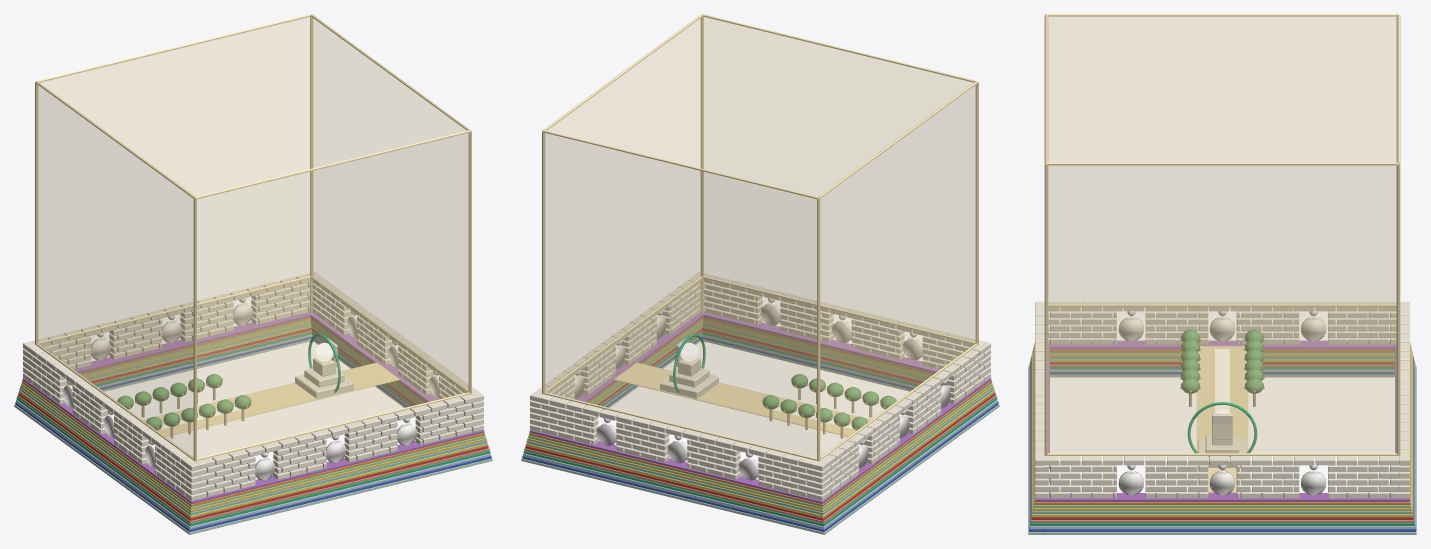
The model's file is new-jerusalem.glb.
3 renders of one model, left to right at view 1: azimuth 30°, elevation 25°; view 2: azimuth 150°, elevation 25°; view 3: azimuth 270°, elevation 25°, orthographic. The views are drawn at different scales.
Visible parts, largest first — view 1: city, wall, foundations, gates, street, trees, throne; view 2: city, wall, foundations, gates, street, trees, throne; view 3: city, wall, foundations, street, gates, trees, throne.
Part boxes in pixels (x1,y1,x2,y2): city: (35, 14, 471, 461); wall: (23, 272, 483, 500); foundations: (14, 312, 492, 534); gates: (63, 298, 439, 480); street: (143, 362, 399, 436); trees: (117, 374, 251, 438); throne: (295, 334, 353, 398); city: (542, 14, 978, 461); wall: (530, 272, 990, 500); foundations: (521, 312, 999, 534); gates: (574, 298, 950, 480); street: (614, 362, 870, 436); trees: (762, 374, 896, 438); throne: (660, 334, 718, 398); city: (1044, 14, 1400, 455); wall: (1035, 301, 1409, 498); foundations: (1028, 340, 1416, 534); street: (1196, 346, 1248, 492); gates: (1118, 308, 1326, 495); trees: (1180, 329, 1264, 406); throne: (1187, 402, 1257, 467).
Bounding box in the file's own units: 12.8 × 13.25 × 12.8.
